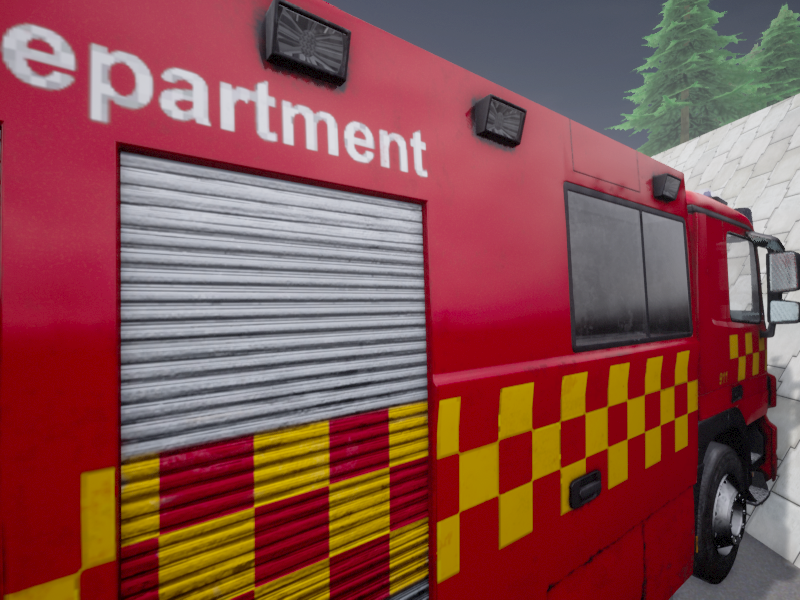vehicle: (0, 0, 799, 599)
